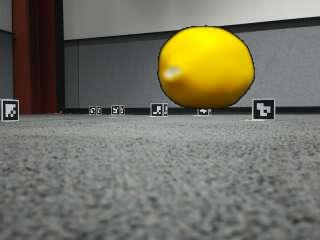lemon: (159, 28, 253, 110)
